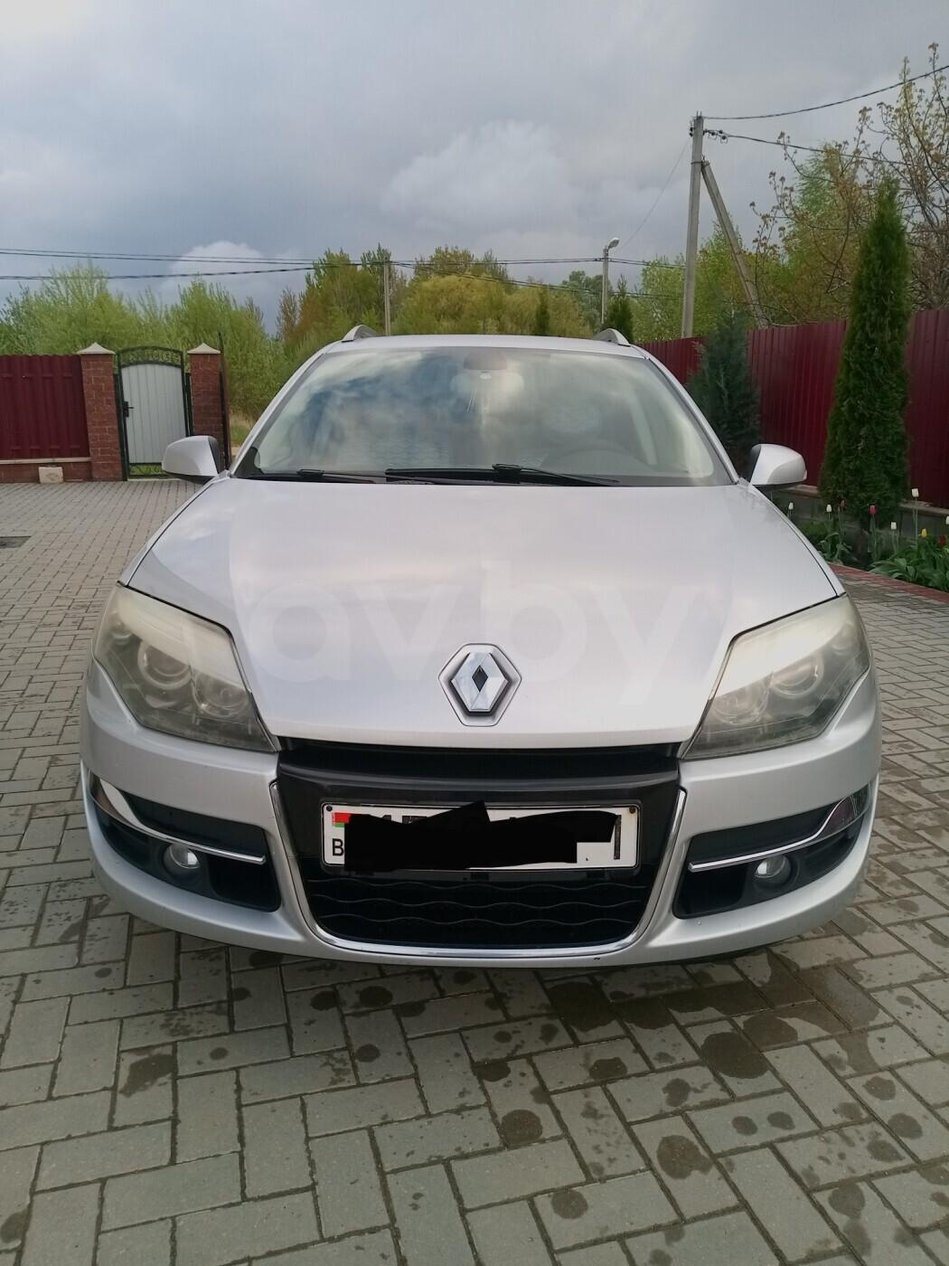Laguna_2010-2015: (52, 315, 886, 995)
